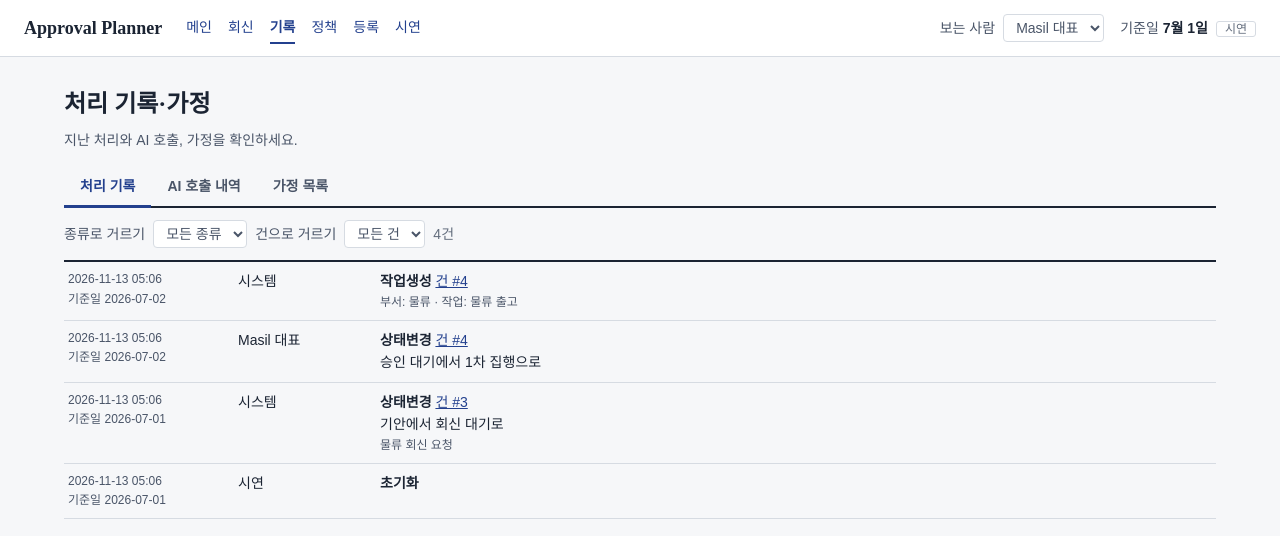
Test case: 처리 기록·가정 목록 › 거른_결과가_없으면_빈_상태
This screenshot has width=1280, height=536.
Check: the list named "처리 기록" is shown, box [64,260,1216,519]
Select "초기화" in the dropdown labelled "종류로 거르기". click: (200, 234)
box: [153,220,247,248]
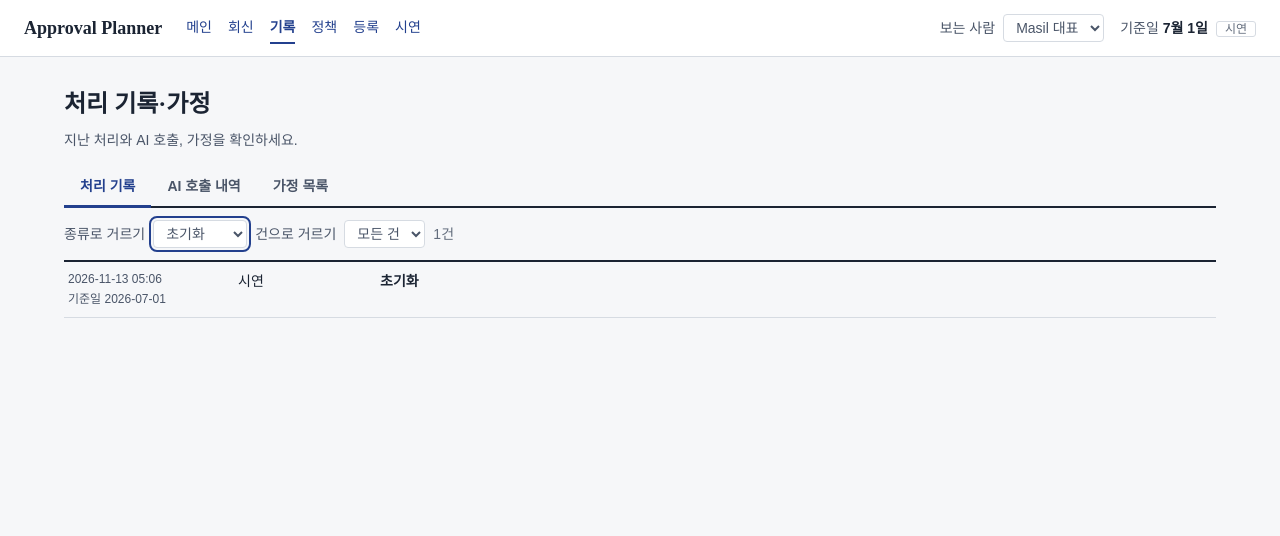
Select "건 #4" in the dropdown labelled "건으로 거르기". click: (385, 234)
box: [344,220,425,248]
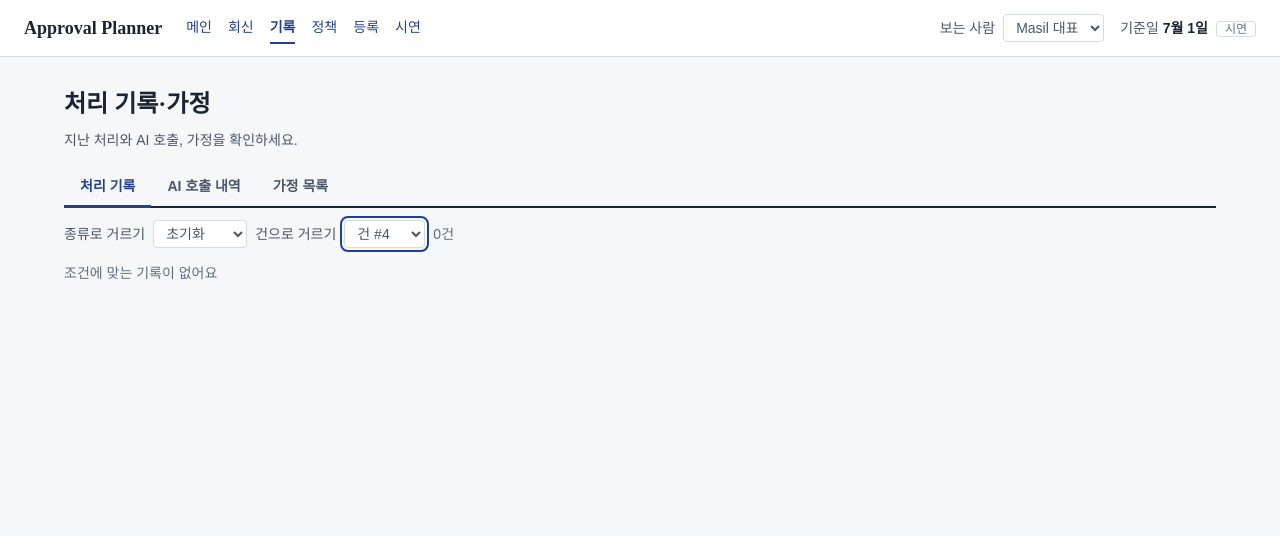
Check: the text "조건에 맞는 기록이 없어요" is shown, box [64,265,217,281]
